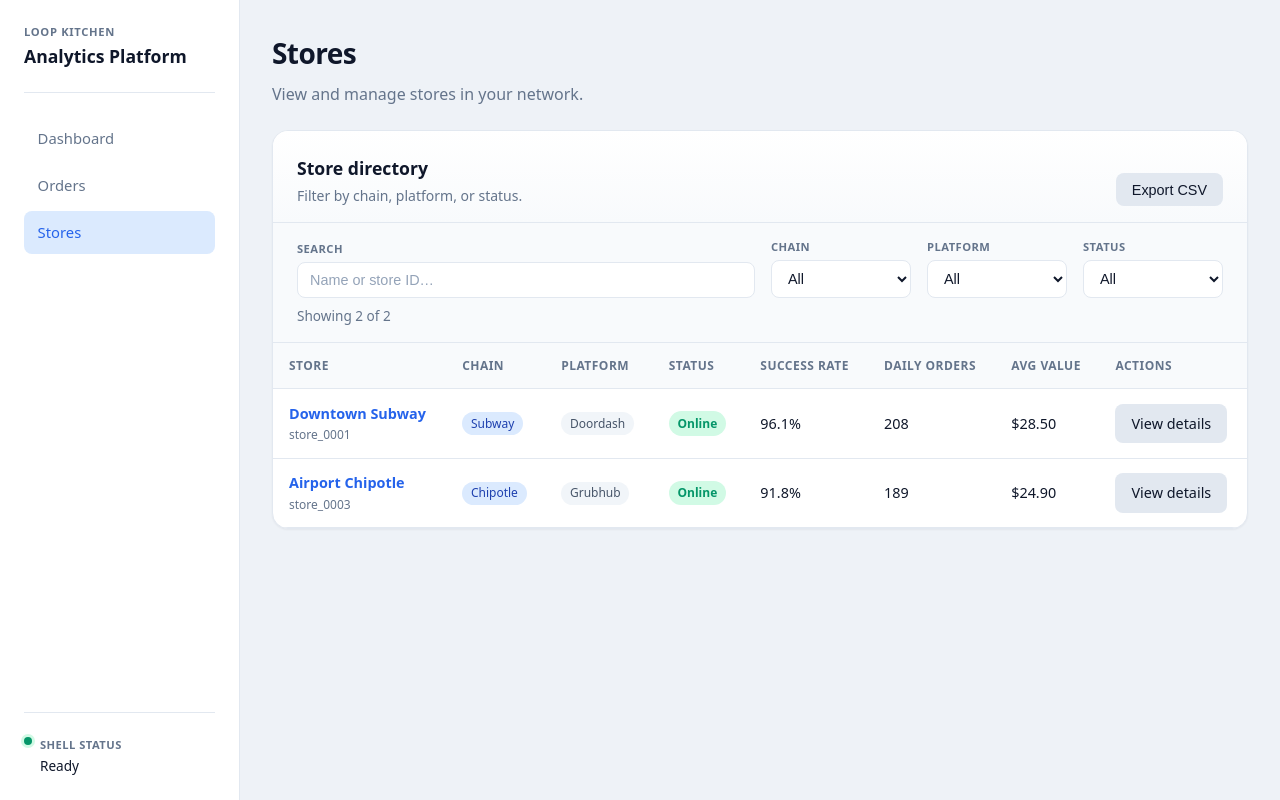
Scenario: App › navigates to store detail page from view details action
This screenshot has width=1280, height=800.
Click the link "Stores" at [120, 232], box [24,211,215,254]
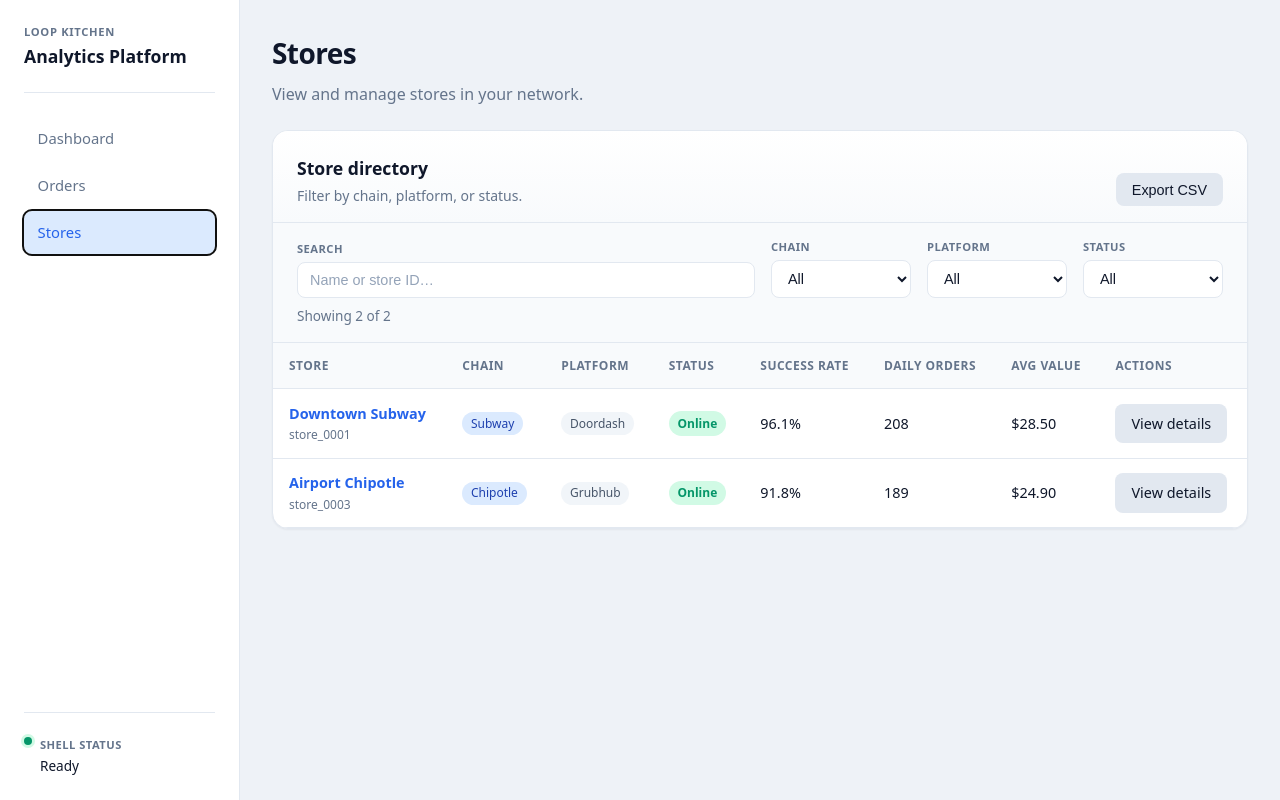
Click the link with aria-label "View details for Downtown Subway" at [1171, 424], box [1116,404,1227,443]
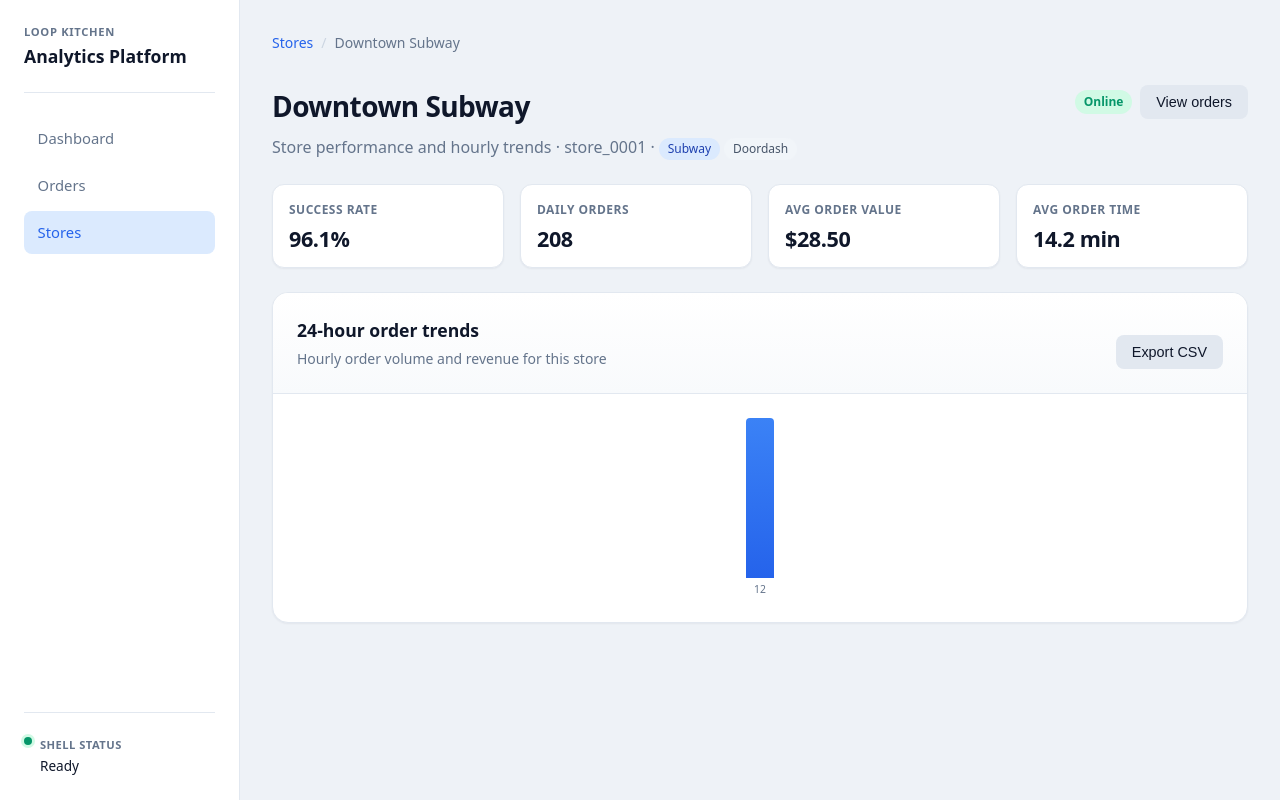
Expected: the heading "Downtown Subway" is shown, [272,87,530,125]
Expected: the heading "24-hour order trends" is shown, [297,318,479,342]
